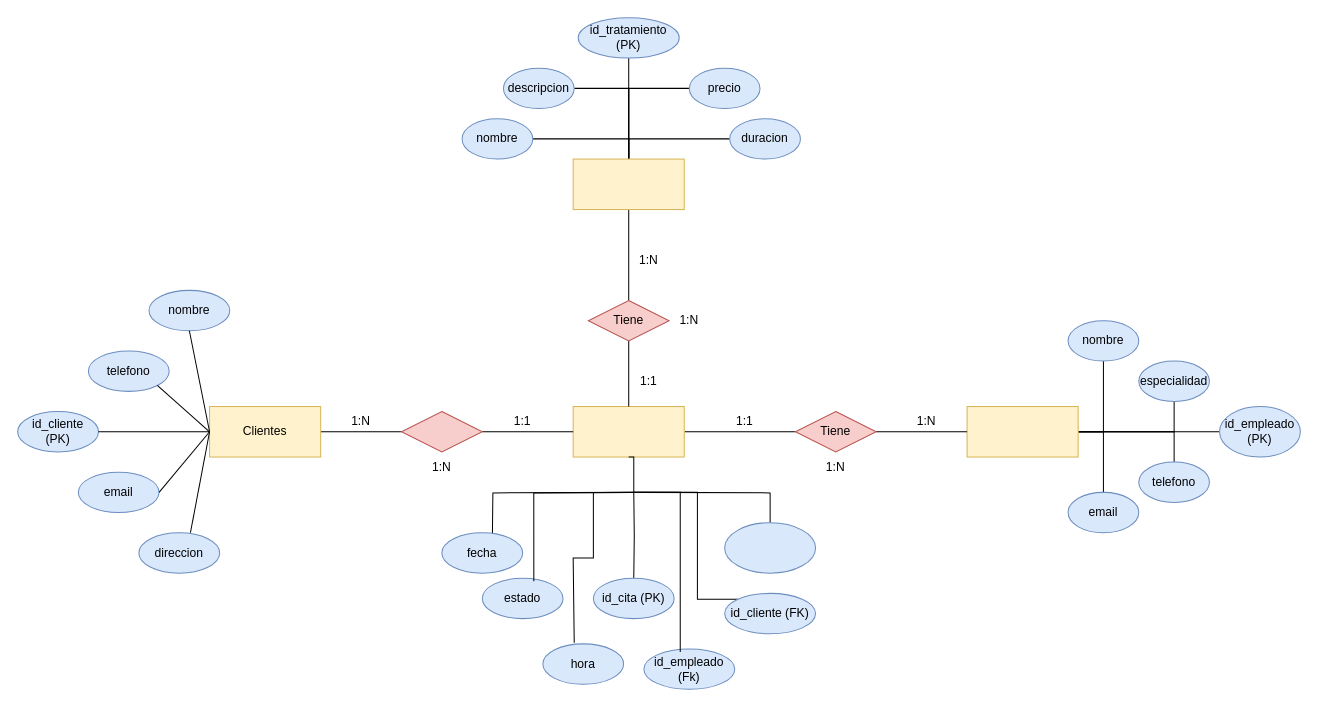
Image size: 1318x707. Some labels were removed from this diagram. Here are the shapes that lost their labels. From the top down, the box of each, then its label:
(572, 158, 684, 210): Tratamientos
(400, 411, 482, 452): Pide
(572, 406, 684, 457): Citas
(966, 406, 1078, 457): Empleados
(724, 522, 816, 573): id_tratamiento (FK)
